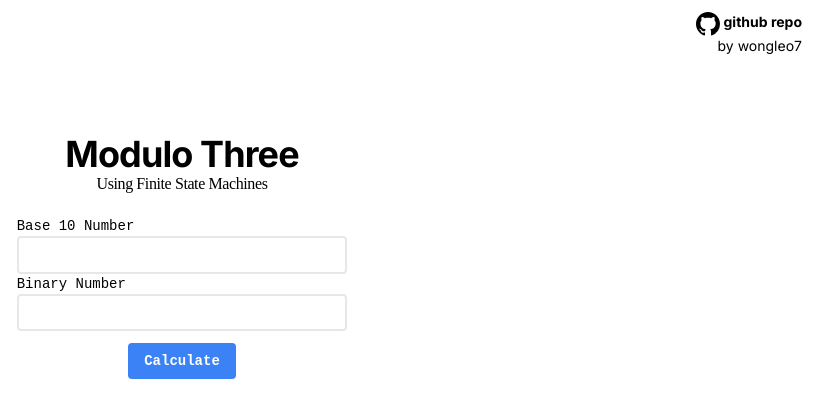
tests invalid alphabet on binary
The width and height of the screenshot is (819, 396).
In the number field with id "binary-input": (183, 313) [17,294,348,332], type "11a"
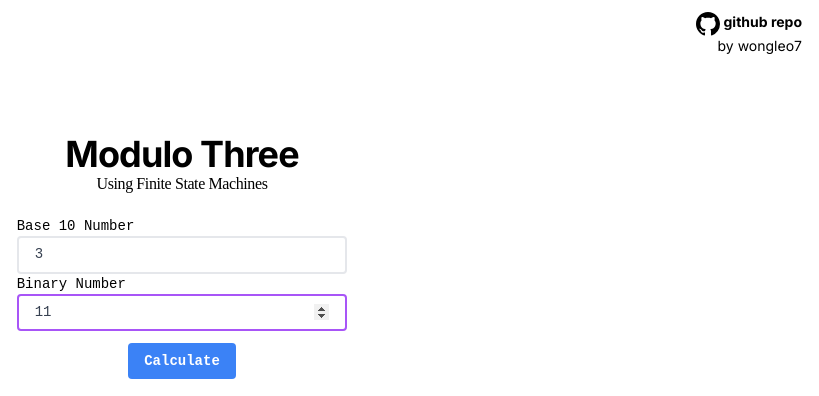
expect the number field with id "binary-input" holds "11": met, box [17,294,348,332]
